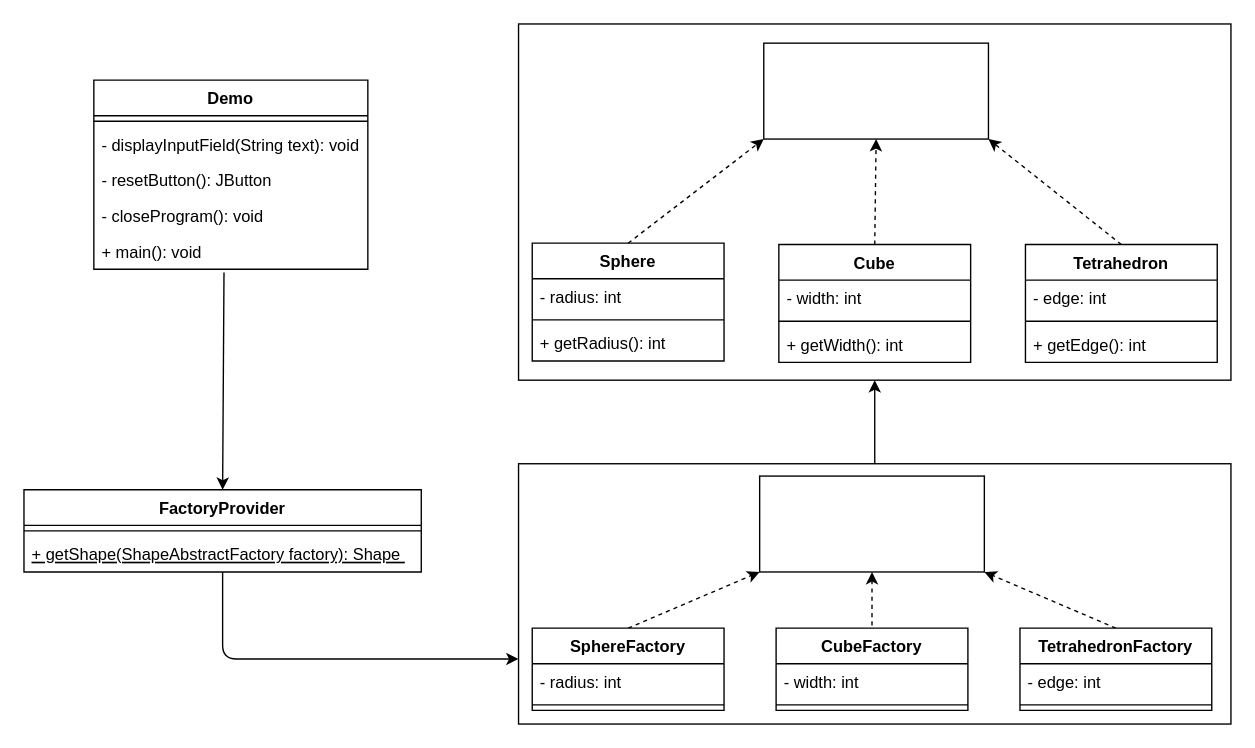
This 1255x748 diagram has some shape labels left out. Each missing label, with the centre of its shape:
<<Interface>> Shape + getVolume(): double: point 875,90
<<Interface>> ShapeAbstractFactory + createShape(): Shape: point 871,523
